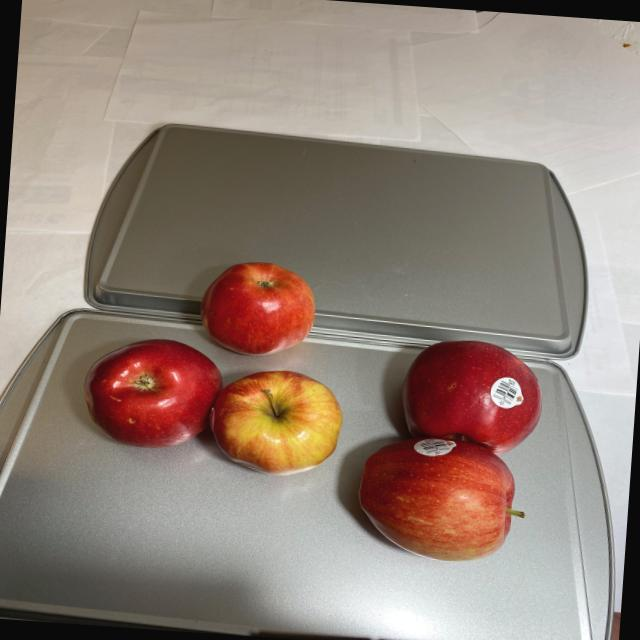apple: (72, 247, 352, 482), (349, 331, 549, 571)
